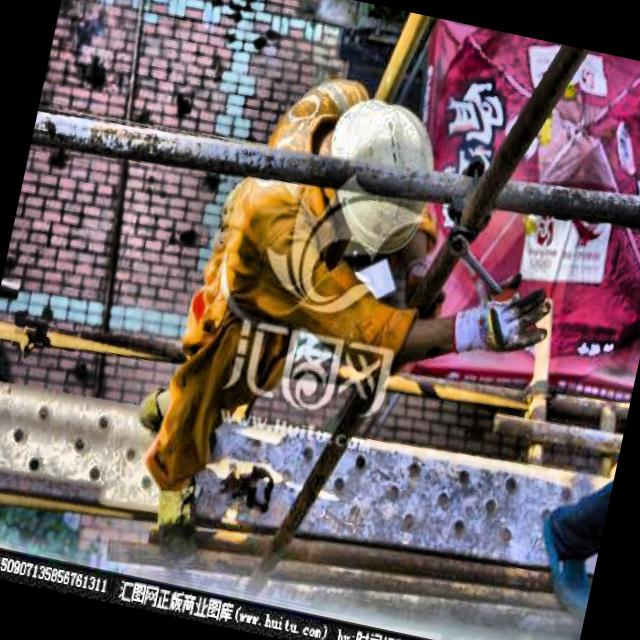helmet: (302, 80, 454, 259)
